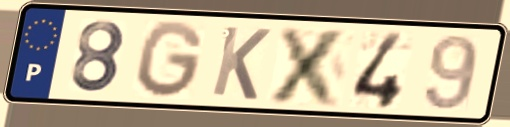4: (348, 29, 406, 111)
8: (70, 18, 128, 94)
9: (420, 33, 479, 113)
G: (134, 18, 207, 101)
K: (207, 23, 274, 103)
X: (264, 24, 354, 109)
